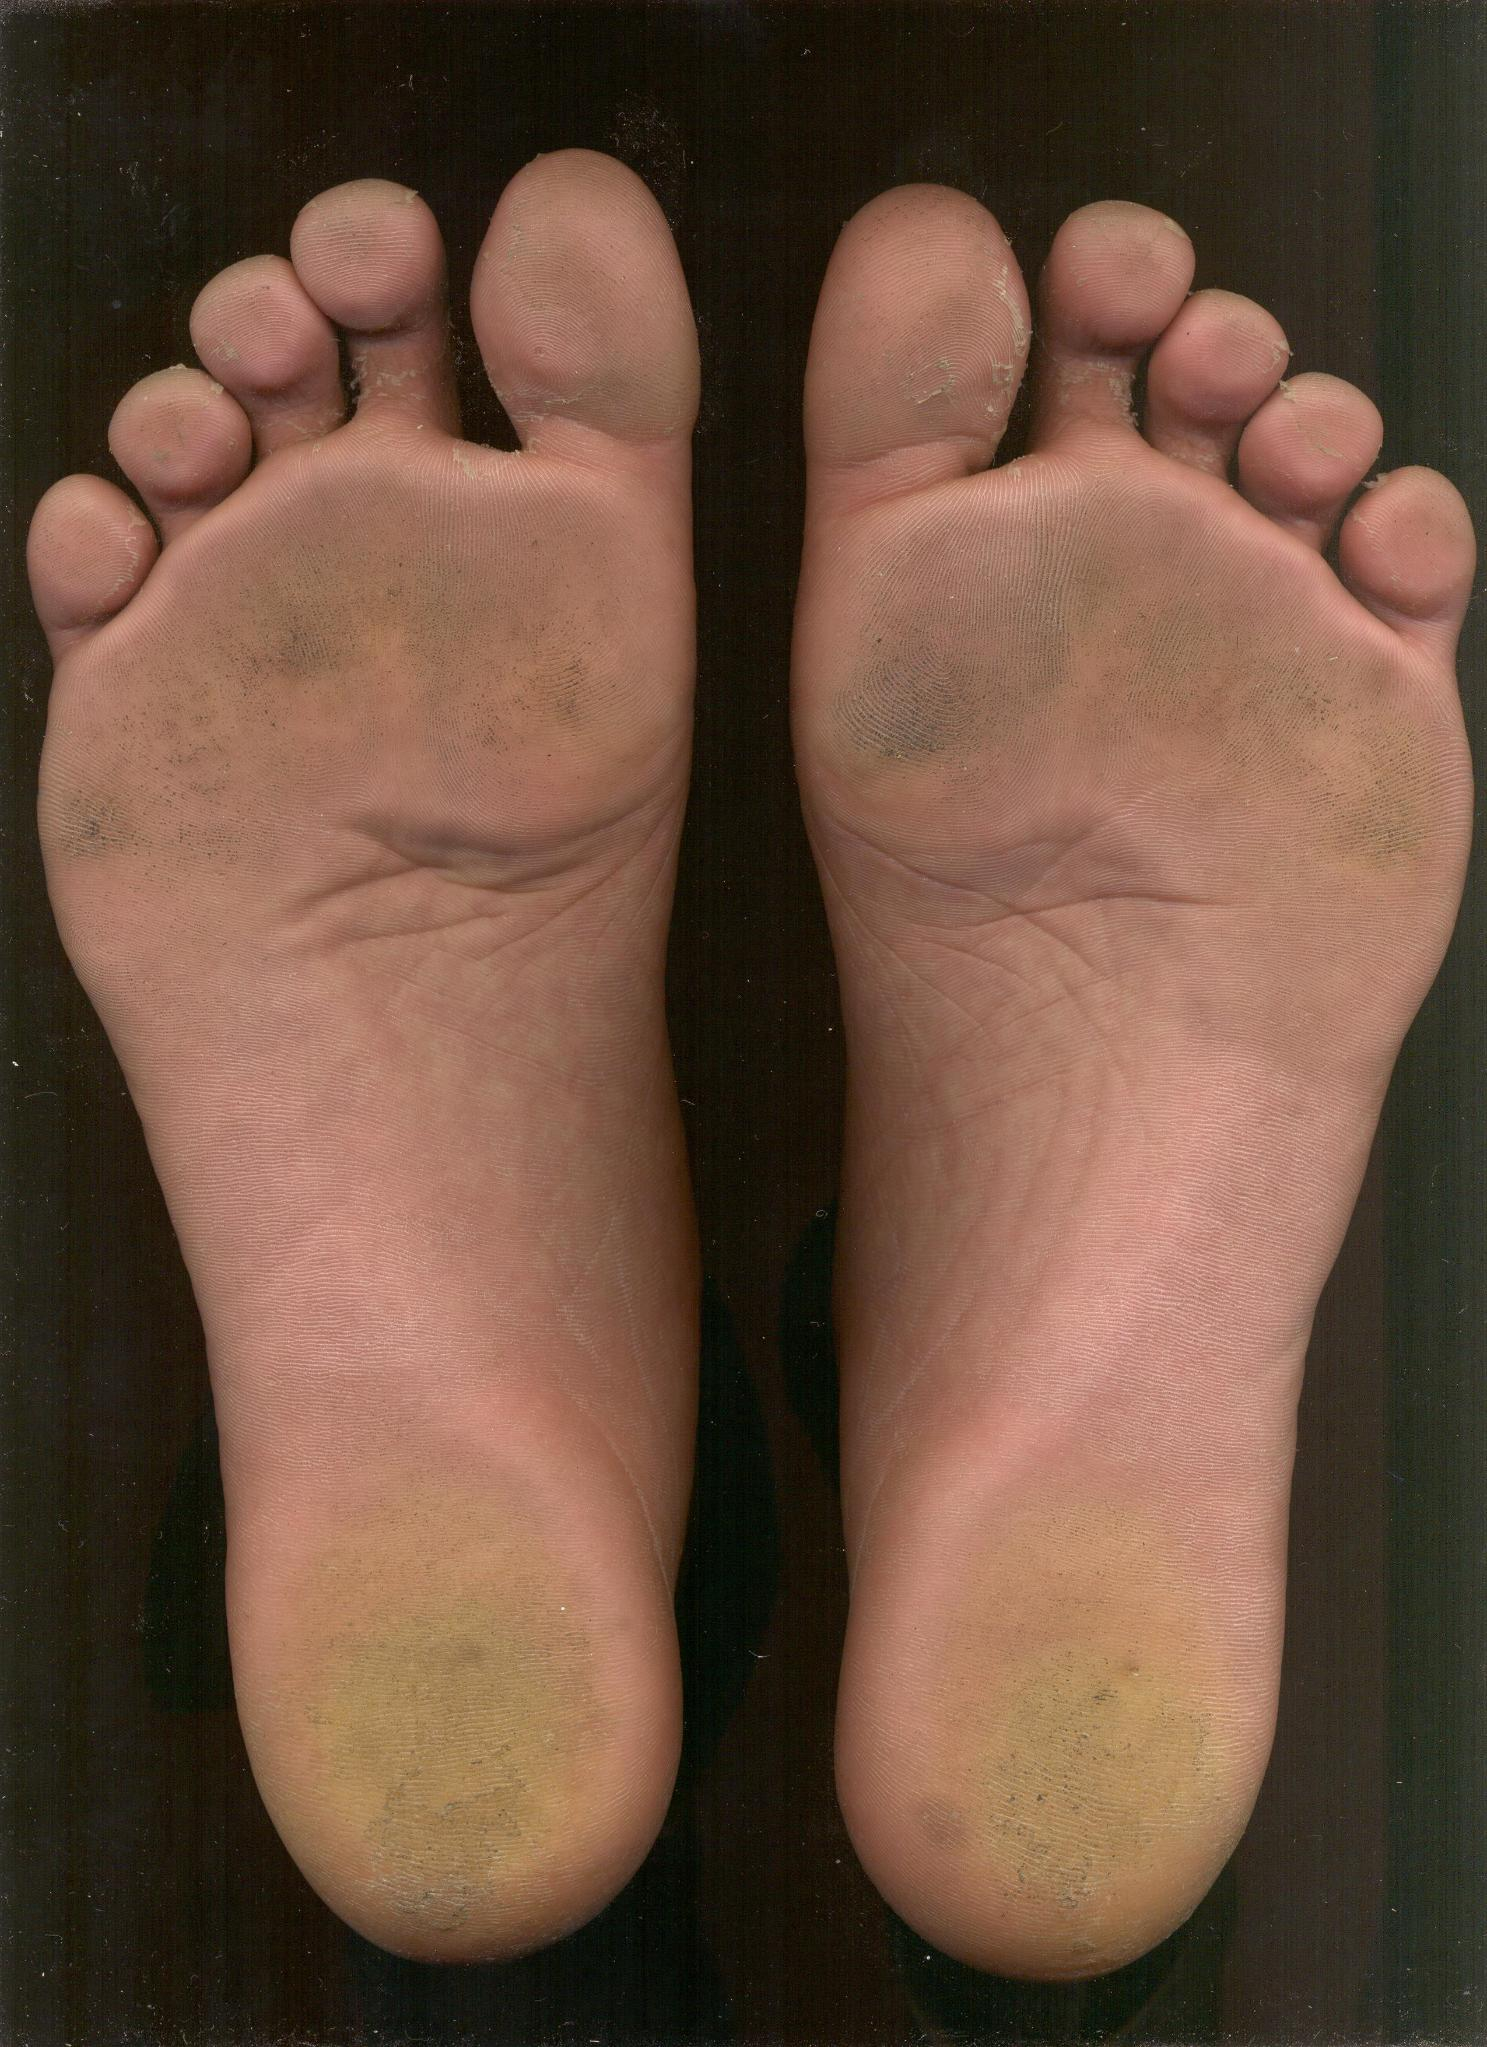1: (29, 133, 723, 1953)
Present: (805, 146, 1476, 2007)
